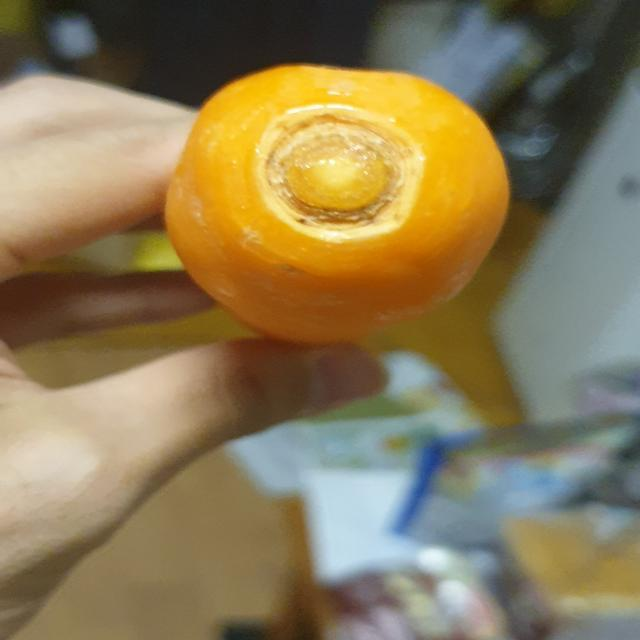carrot: (148, 53, 525, 348)
